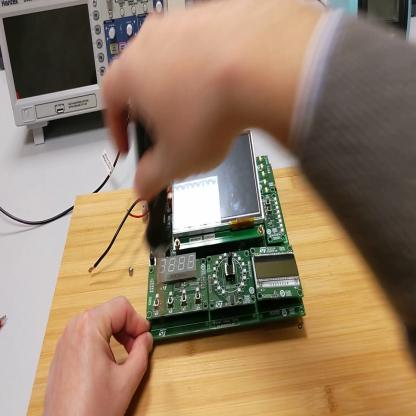hand: (103, 2, 251, 199), (45, 297, 154, 416)
low voltage board: (89, 142, 307, 344)
oscilloscope: (2, 3, 166, 145)
screwdriver-: (137, 119, 169, 314)
welder station: (327, 3, 413, 50)
working area: (27, 168, 416, 415)
